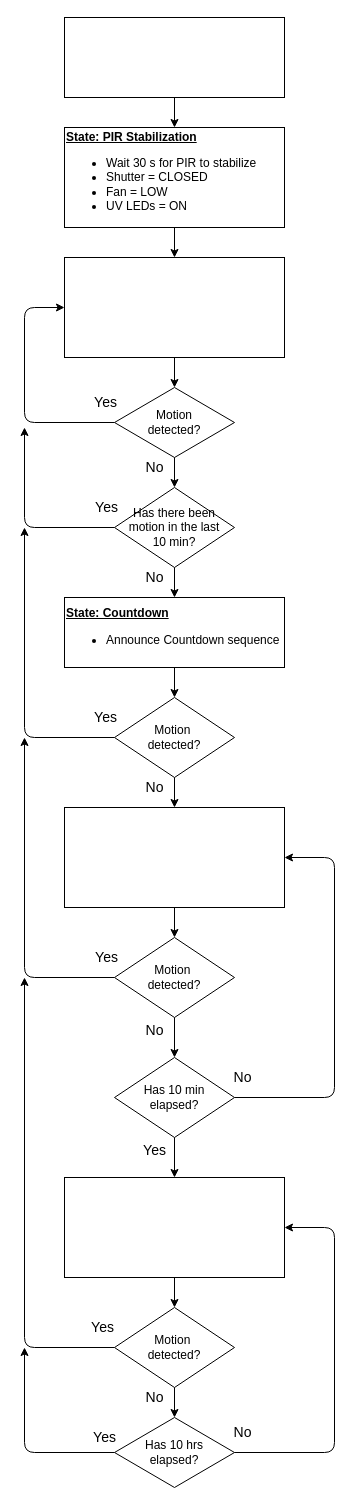
Image size: 360x1505. Some labels were removed from this diagram. Here are the shapes that lost their labels. From the top down, the centre of each, then its label:
[174,57]: System Start Up Play Startup Notification
[174,307]: State: Room Occupied Shutter = CLOSED Fan = LOW UV LEDs = ON
[174,857]: State: Room Unoccupied Shutter = OPEN Fan = HIGH UV LEDs = ON
[174,1227]: State: Dormant Shutter = CLOSED Fan = OFF UV LEDs = OFF
